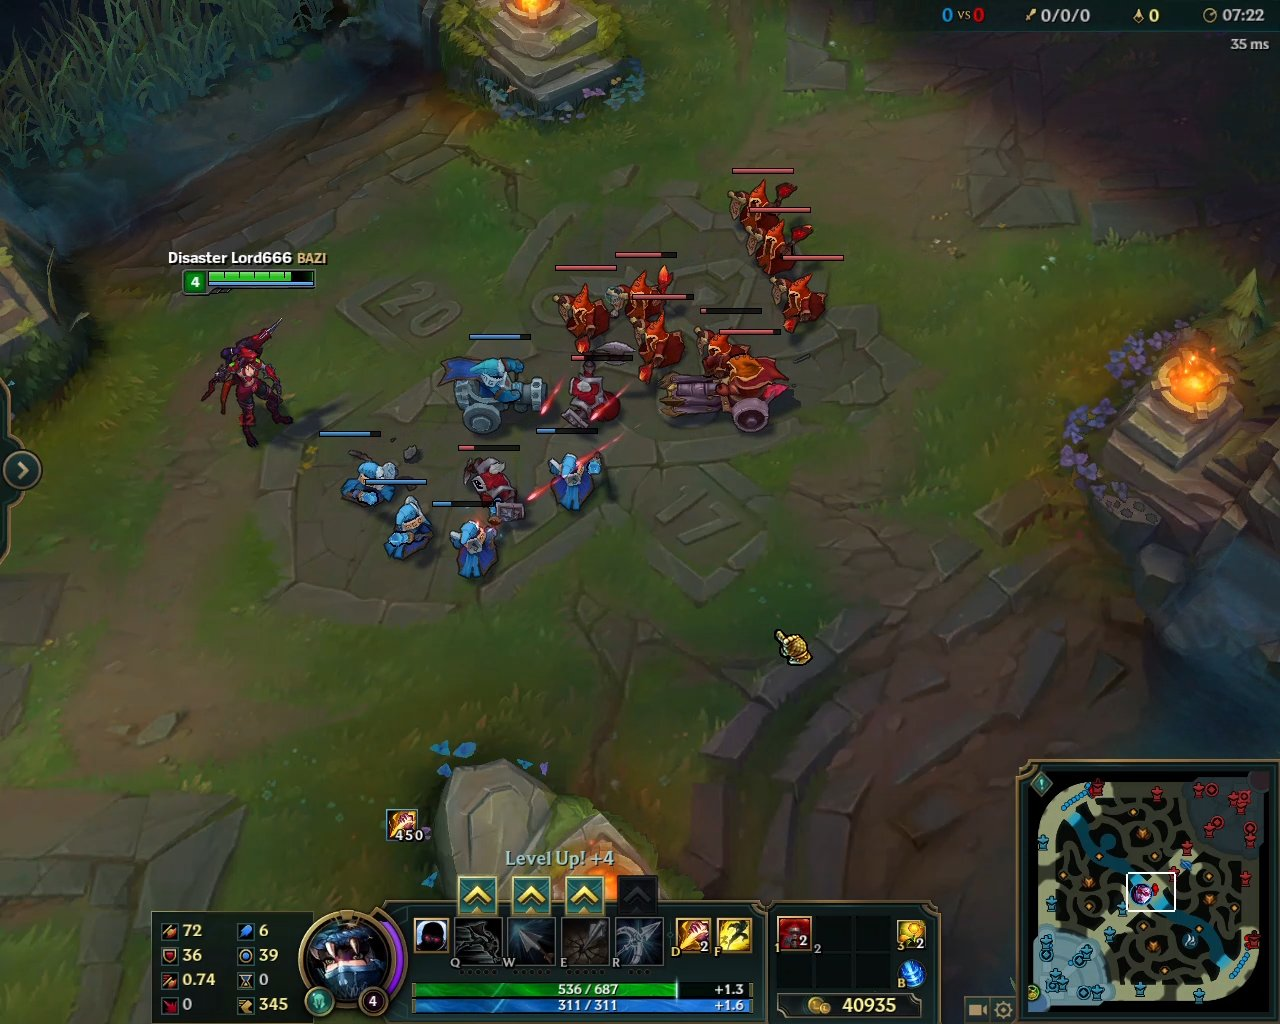EnemyMinion: (652, 328, 798, 440), (452, 439, 531, 531), (766, 253, 844, 335), (551, 262, 619, 356), (725, 167, 802, 241), (607, 250, 680, 328), (743, 205, 818, 278), (633, 292, 692, 385), (563, 353, 633, 430)
Vayne: (199, 315, 294, 453)
